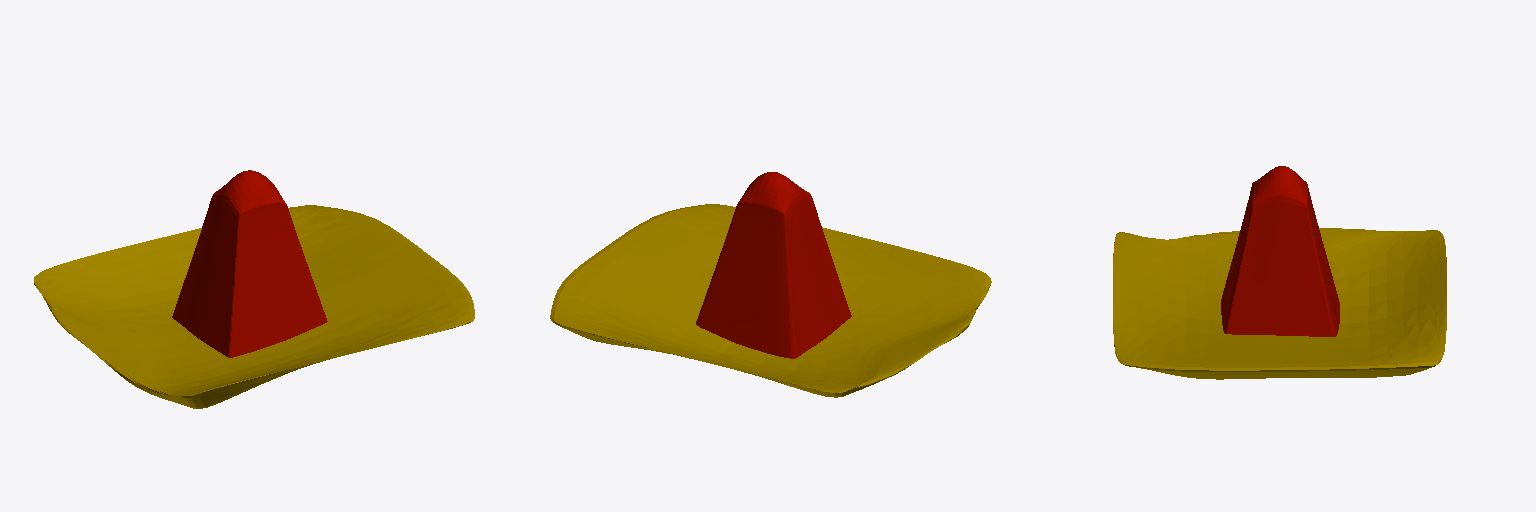
Rendered from Sombrero.obj.
3 views of the same model, side by side, from view 1: azimuth 30°, elevation 25°; view 2: azimuth 150°, elevation 25°; view 3: azimuth 270°, elevation 25° (orthographic).
Parts seen in each view (by area): view 1: Circle, Circle.001; view 2: Circle, Circle.001; view 3: Circle, Circle.001.
Part boxes in pixels (x1,y1,x2,y2): Circle: (34,205,474,408); Circle.001: (172,170,327,357); Circle: (550,204,991,397); Circle.001: (696,172,851,358); Circle: (1113,228,1446,379); Circle.001: (1221,166,1339,336).
Size of the model in its own units: 4.97 by 2.45 by 4.35.